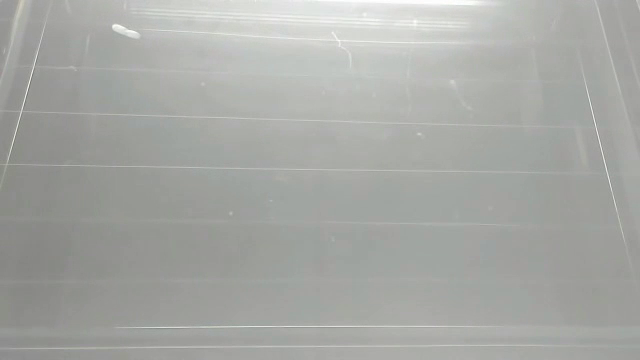alpha: (108, 22, 141, 42)
